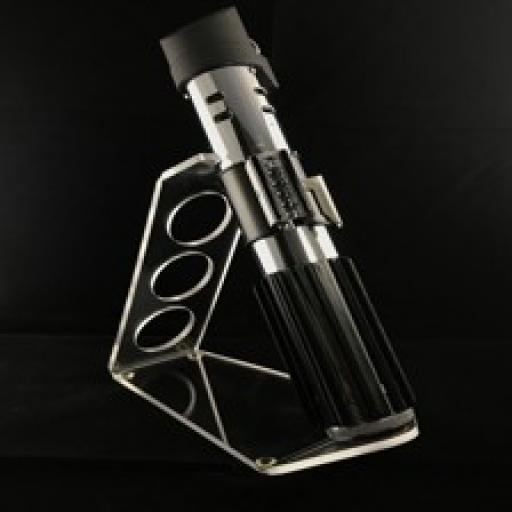lightsaber: (148, 1, 429, 442)
